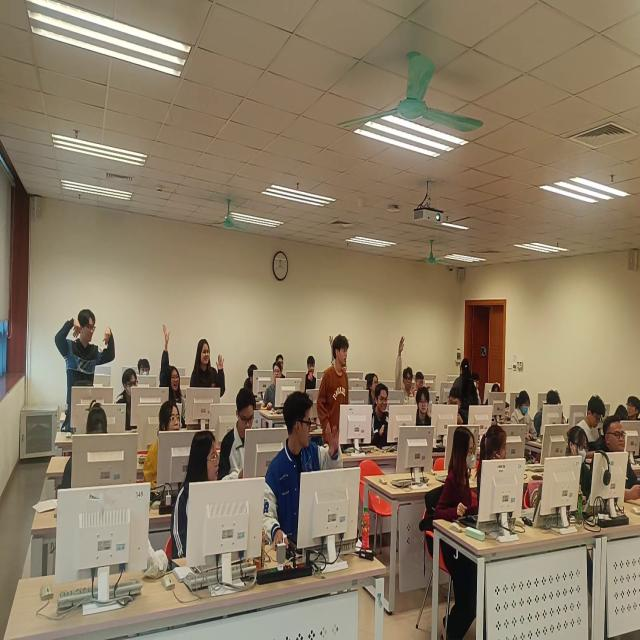raise_hand: (264, 394, 345, 571), (60, 308, 121, 371), (191, 330, 226, 420), (161, 324, 190, 429), (395, 334, 418, 420)
raise_head: (145, 401, 192, 491), (596, 416, 640, 501), (370, 381, 396, 456), (263, 362, 291, 413), (415, 389, 434, 439), (303, 356, 322, 403), (333, 334, 352, 371), (137, 353, 154, 385), (370, 372, 382, 397), (276, 352, 287, 372)
stand: (319, 338, 352, 473), (65, 305, 99, 434)
using_computer: (57, 400, 134, 503), (437, 429, 494, 539), (220, 392, 273, 487), (112, 366, 158, 436), (562, 428, 599, 514), (511, 393, 554, 454), (581, 396, 612, 451), (541, 389, 573, 438), (240, 363, 267, 401), (487, 383, 510, 426), (415, 365, 430, 393)
